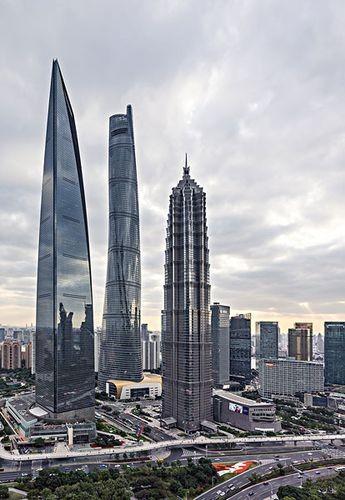buildings: (29, 77, 99, 421), (165, 150, 221, 435), (104, 101, 154, 386), (226, 306, 260, 391), (277, 320, 312, 395), (318, 319, 344, 408)
